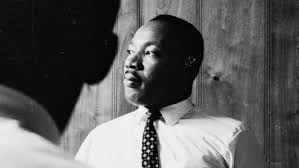black_male: (120, 9, 196, 114)
